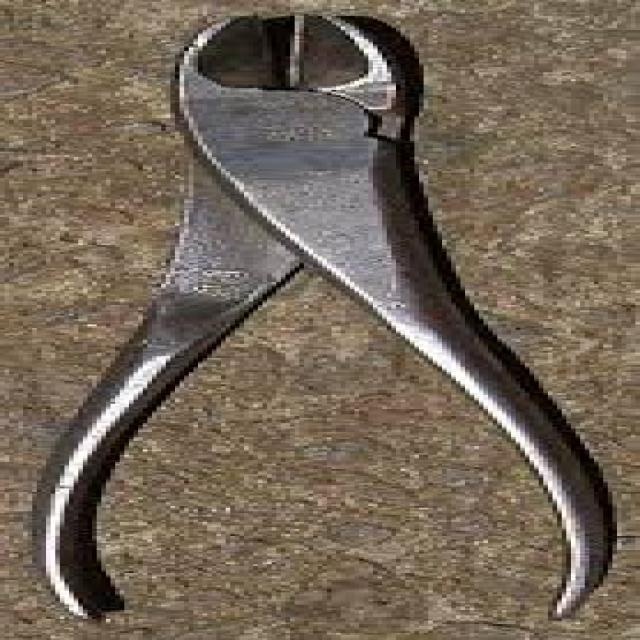pliers: (32, 8, 626, 626)
